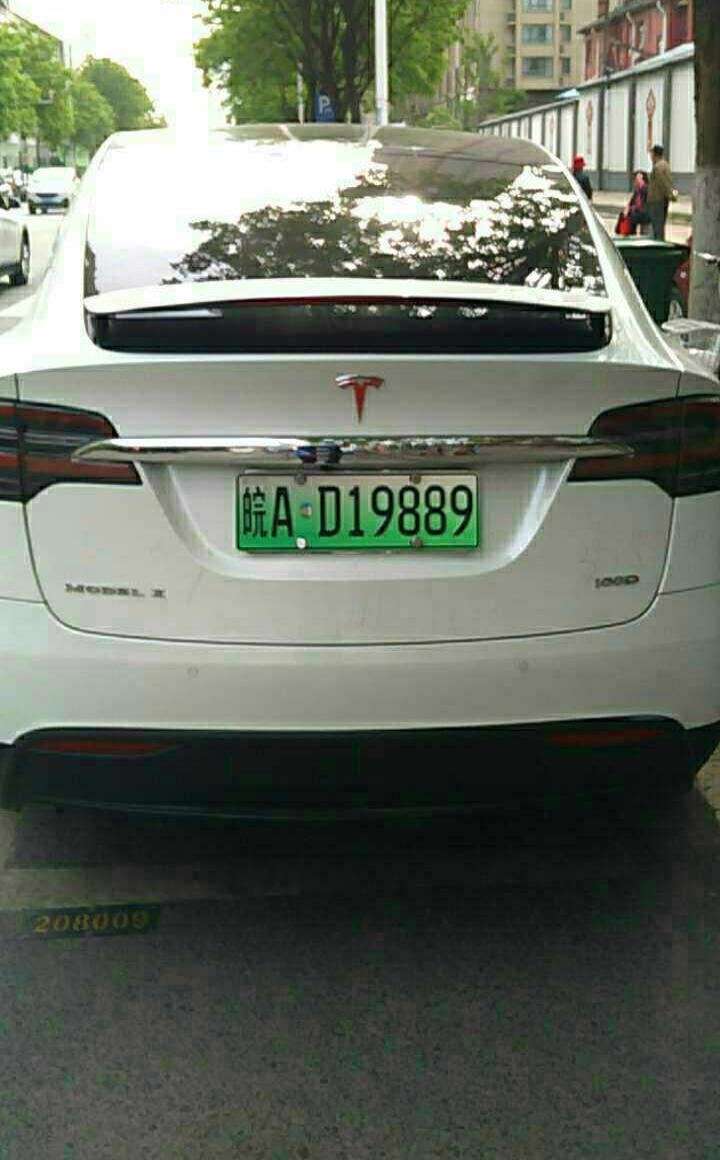car_id: (232, 472, 478, 544)
